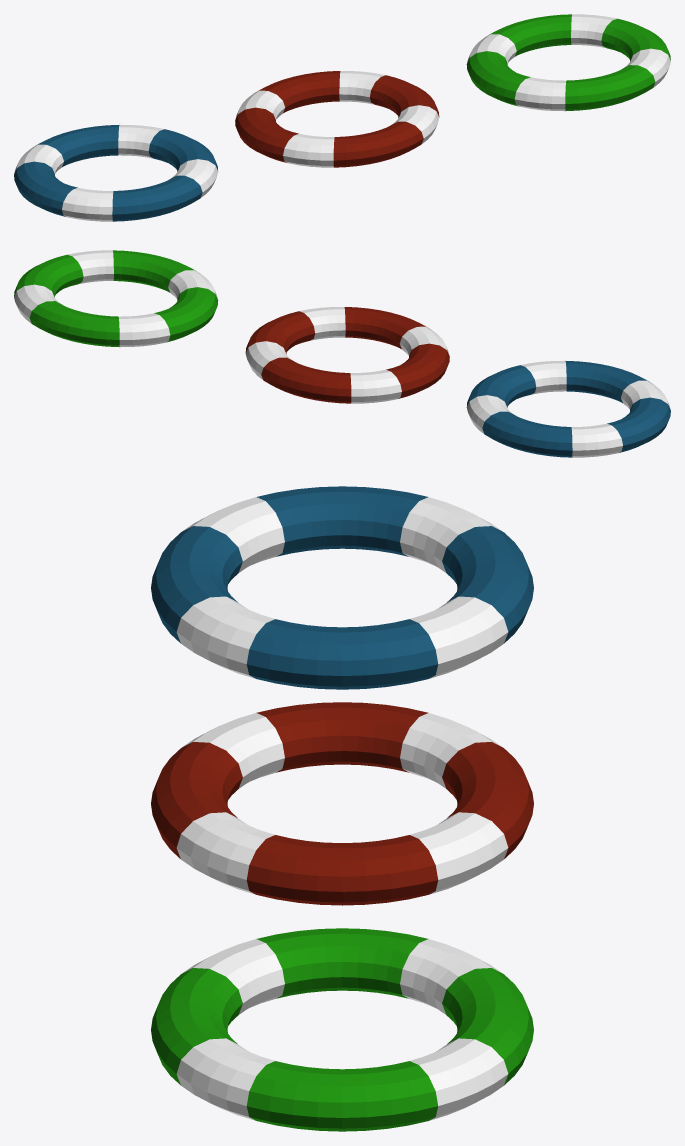
The model's file is LifeTubes.fbx.
The picture shows the model from 3 angles, top to bottom: view 1: azimuth 30°, elevation 25°; view 2: azimuth 150°, elevation 25°; view 3: azimuth 270°, elevation 25°; orthographic projection. The views are drawn at different scales.
Visible parts, largest first — view 1: LifeTube1, LifeTube2, LifeTube3; view 2: LifeTube1, LifeTube2, LifeTube3; view 3: LifeTube2, LifeTube3, LifeTube1.
Boxes of the visible parts, box(x1,y1,x2,y2) form: LifeTube1: box(235, 71, 439, 167); LifeTube2: box(14, 124, 218, 221); LifeTube3: box(466, 14, 670, 111); LifeTube1: box(245, 307, 449, 403); LifeTube2: box(466, 360, 670, 457); LifeTube3: box(14, 250, 218, 347); LifeTube2: box(151, 486, 533, 689); LifeTube3: box(151, 928, 533, 1131); LifeTube1: box(151, 702, 533, 905).
Bounding box in the file's own units: 954 × 37.2 × 250.
3 materials, 3 textured.
